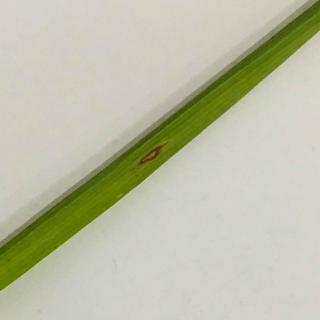Blast: (129, 134, 182, 174)
